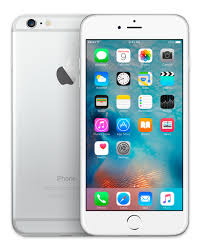iphone: (74, 13, 192, 238)
iphone6: (74, 12, 192, 237)
